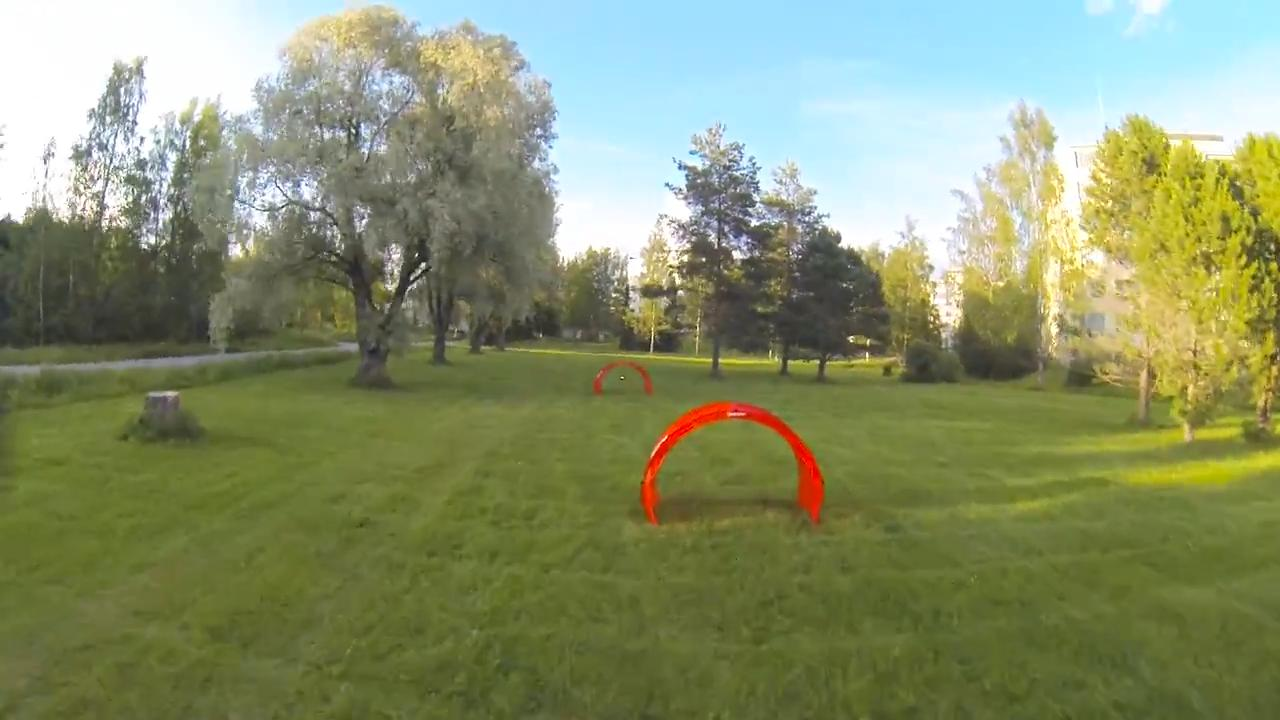gate: (629, 401, 832, 525)
